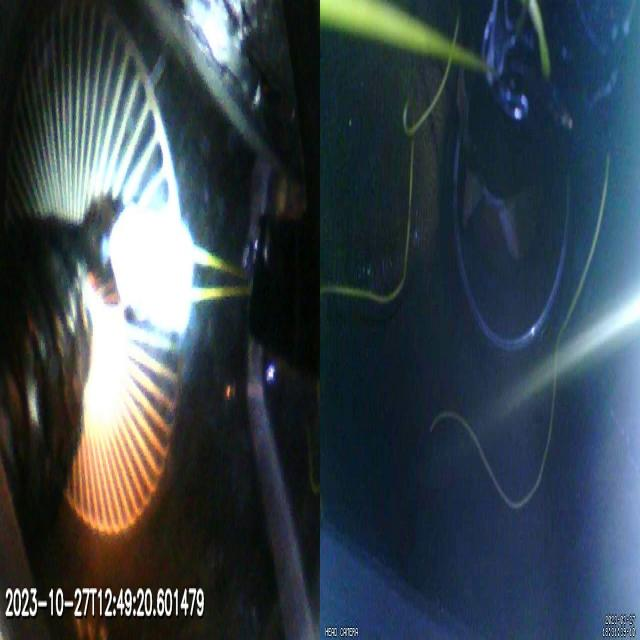head: (118, 201, 193, 337)
